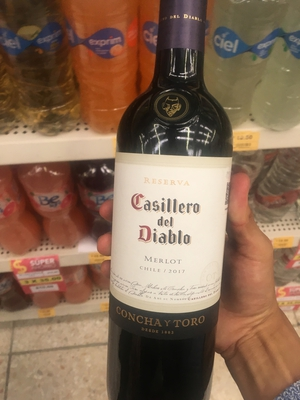casillero del diablo merlot: (109, 15, 239, 400)
